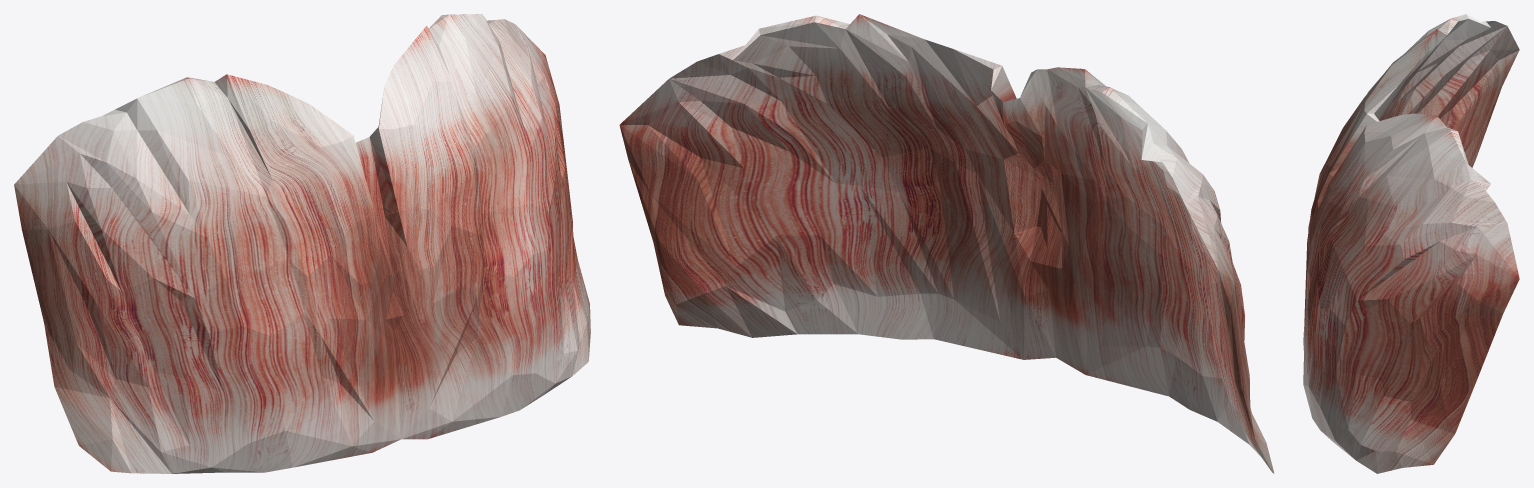
File: Frontalis.obj
3 renders of one model, left to right at view 1: azimuth 30°, elevation 25°; view 2: azimuth 150°, elevation 25°; view 3: azimuth 270°, elevation 25°, orthographic. The views are drawn at different scales.
Parts seen in each view (by area): view 1: Musculos_Cabeza_1:Frontalis:Frontalis; view 2: Musculos_Cabeza_1:Frontalis:Frontalis; view 3: Musculos_Cabeza_1:Frontalis:Frontalis.
Part boxes in pixels (x1=…): Musculos_Cabeza_1:Frontalis:Frontalis: x1=14, y1=14, x2=590, y2=473; Musculos_Cabeza_1:Frontalis:Frontalis: x1=619, y1=14, x2=1274, y2=473; Musculos_Cabeza_1:Frontalis:Frontalis: x1=1303, y1=14, x2=1519, y2=473.
Bounding box in the file's own units: 0.437 × 0.2687 × 0.1736.
Materials: 1 (1 with a texture image).
